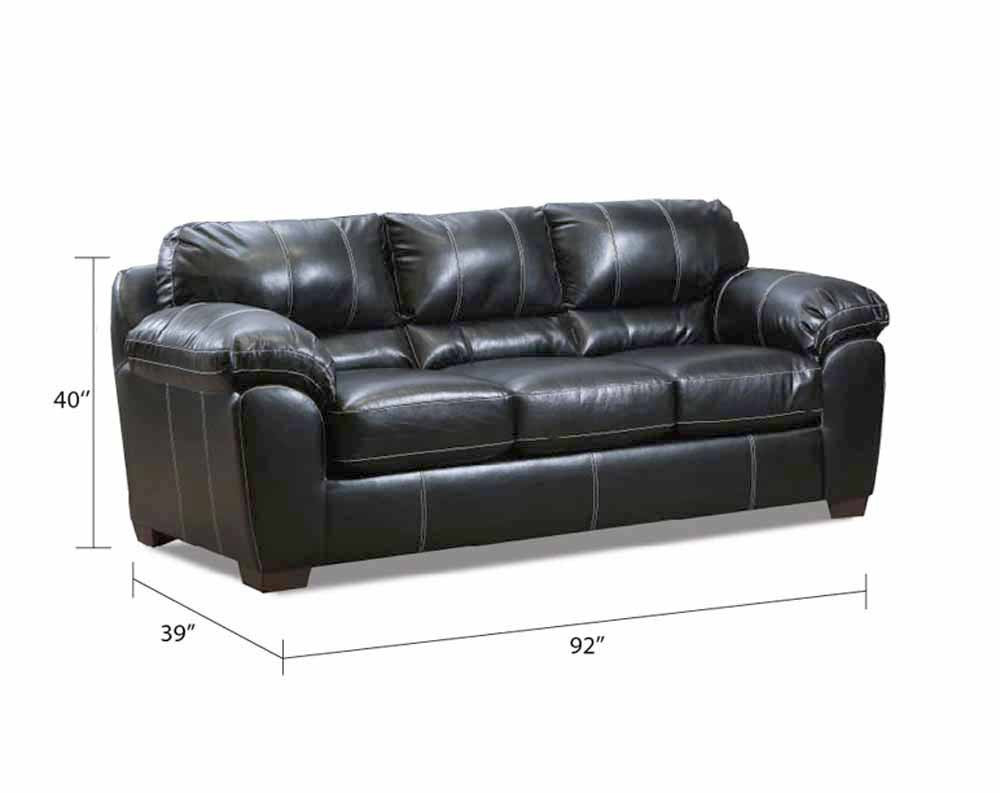chairs: (102, 185, 894, 595)
